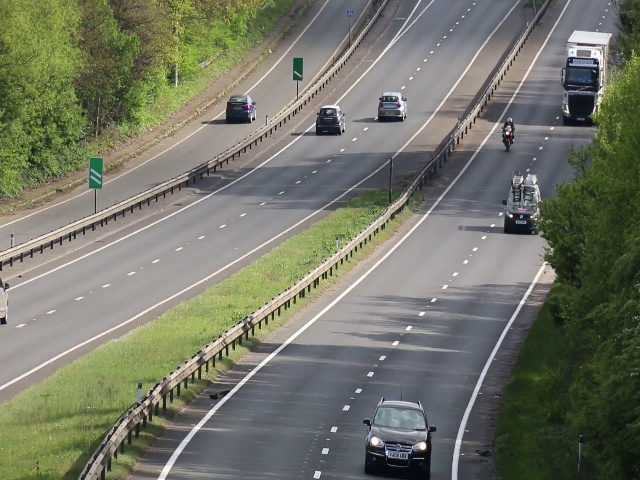car: (365, 392, 433, 479), (562, 50, 600, 122), (502, 181, 541, 233), (376, 90, 409, 123), (313, 106, 346, 135), (222, 94, 257, 121)
